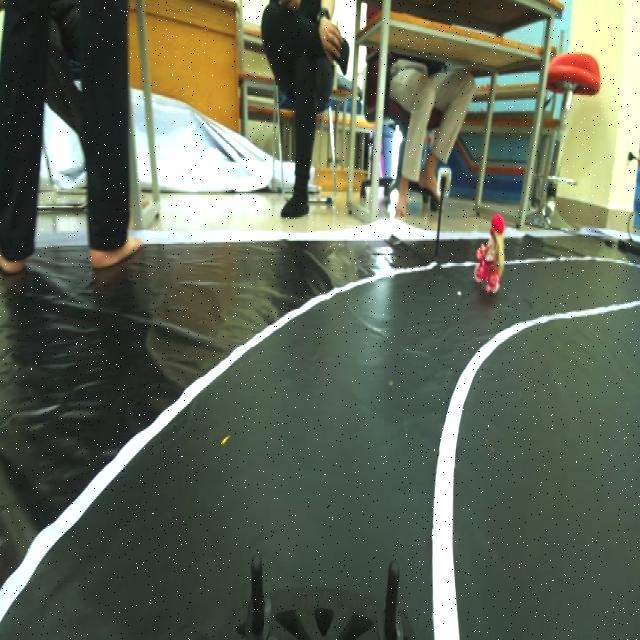pedestrian: (475, 210, 509, 295)
